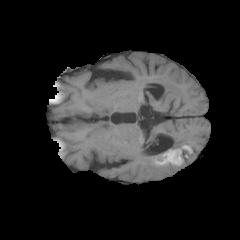glioma: (143, 74, 193, 168)
